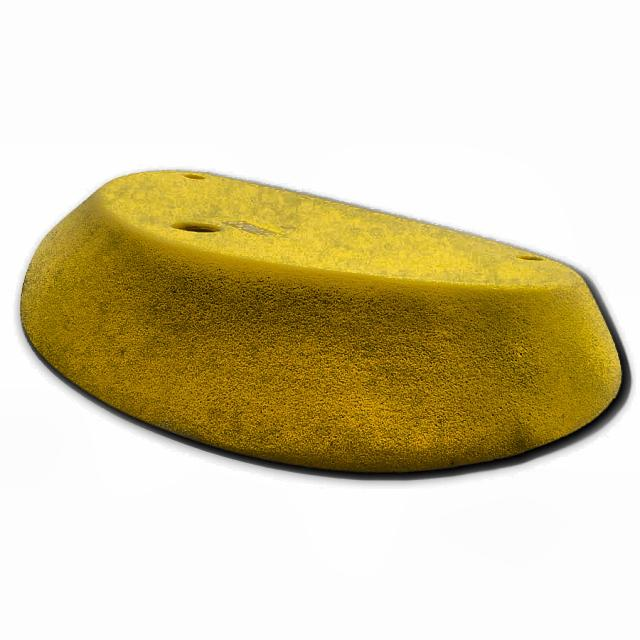Hold: (25, 148, 628, 477)
